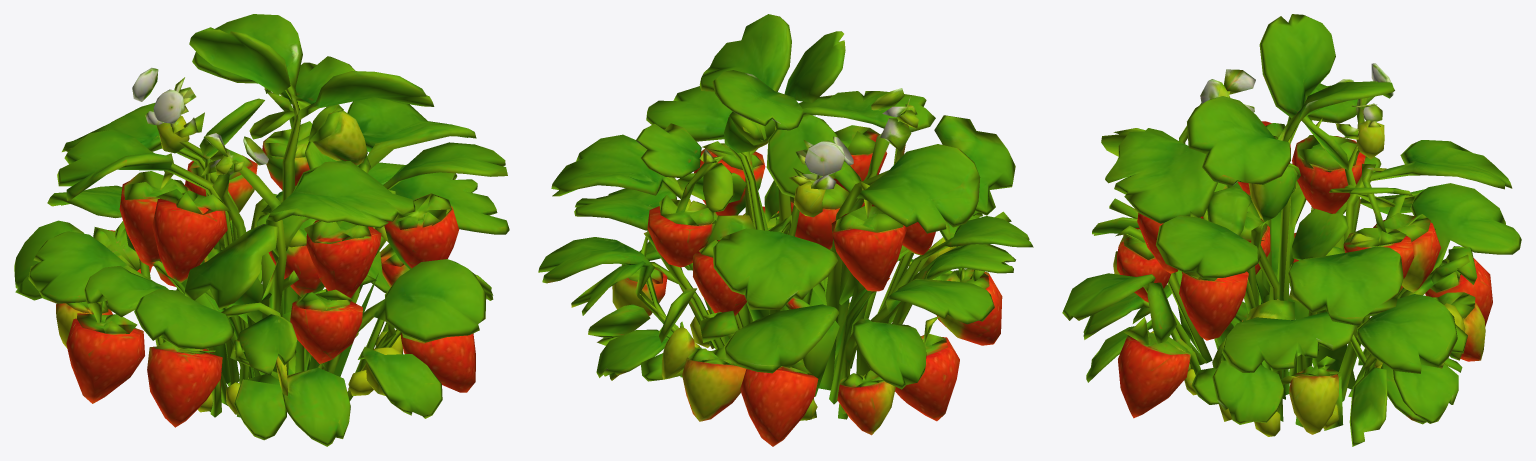
The model's file is strawberry-plant.glb.
3 renders of one model, left to right at view 1: azimuth 30°, elevation 25°; view 2: azimuth 150°, elevation 25°; view 3: azimuth 270°, elevation 25°, orthographic. The views are drawn at different scales.
Size of the model in its own units: 1 by 0.8457 by 0.9688.
1 material, 1 textured.
